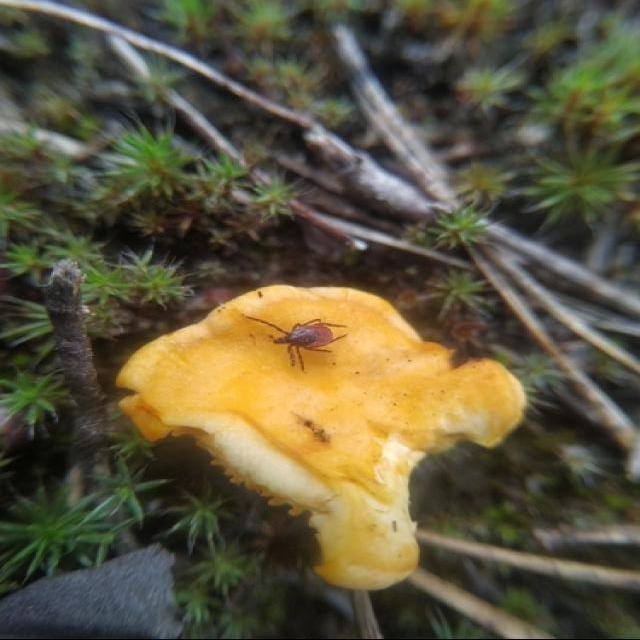Ixodes Ricinus-F: (244, 316, 348, 374)
